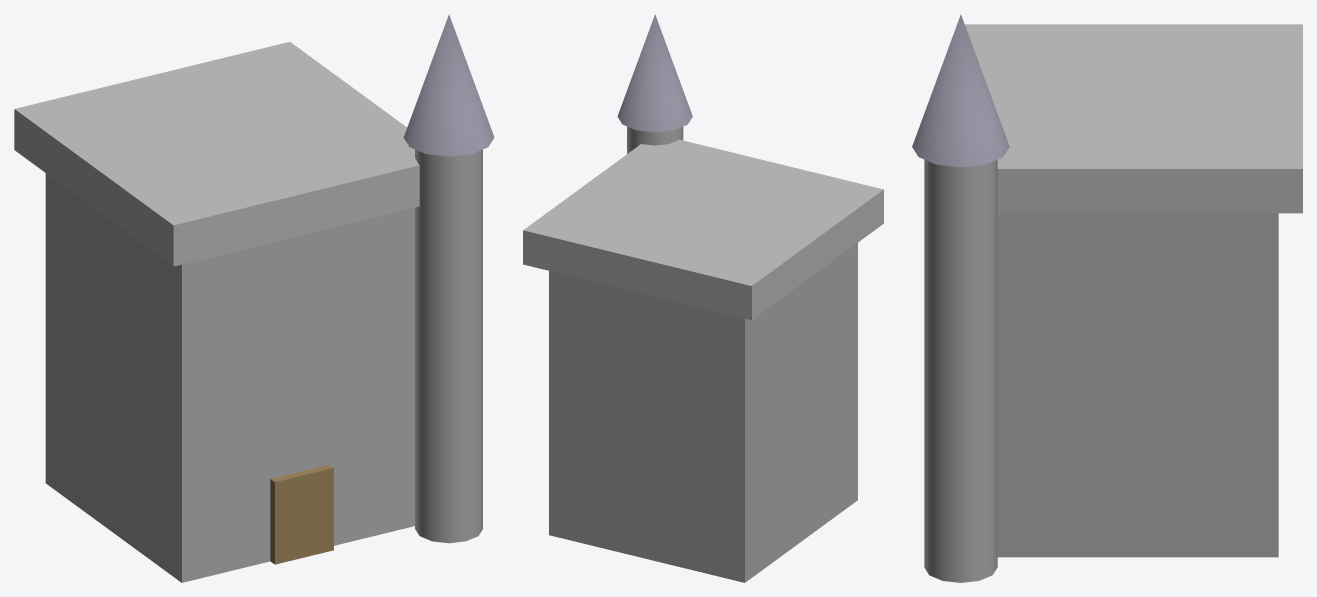
The model's file is env-med-keep.glb.
3 views of the same model, side by side, from view 1: azimuth 30°, elevation 25°; view 2: azimuth 150°, elevation 25°; view 3: azimuth 270°, elevation 25° (orthographic). The views are drawn at different scales.
Size of the model in its own units: 8 by 12.5 by 8.
